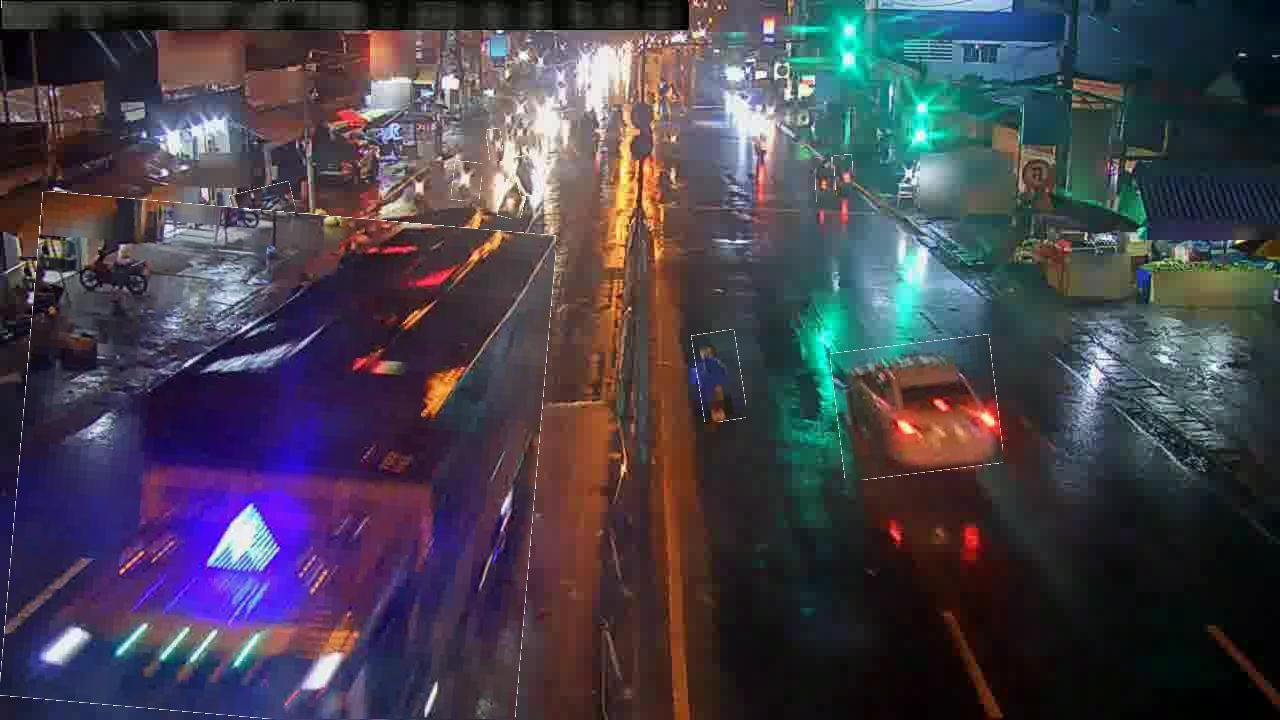8: (9, 202, 547, 719)
container: (834, 339, 1001, 477)
motorbike: (61, 257, 146, 311), (695, 331, 744, 422), (231, 185, 295, 224), (391, 174, 435, 206), (452, 161, 482, 202), (514, 154, 542, 196), (499, 180, 526, 219), (816, 157, 834, 203), (835, 155, 854, 196), (487, 129, 503, 162)
